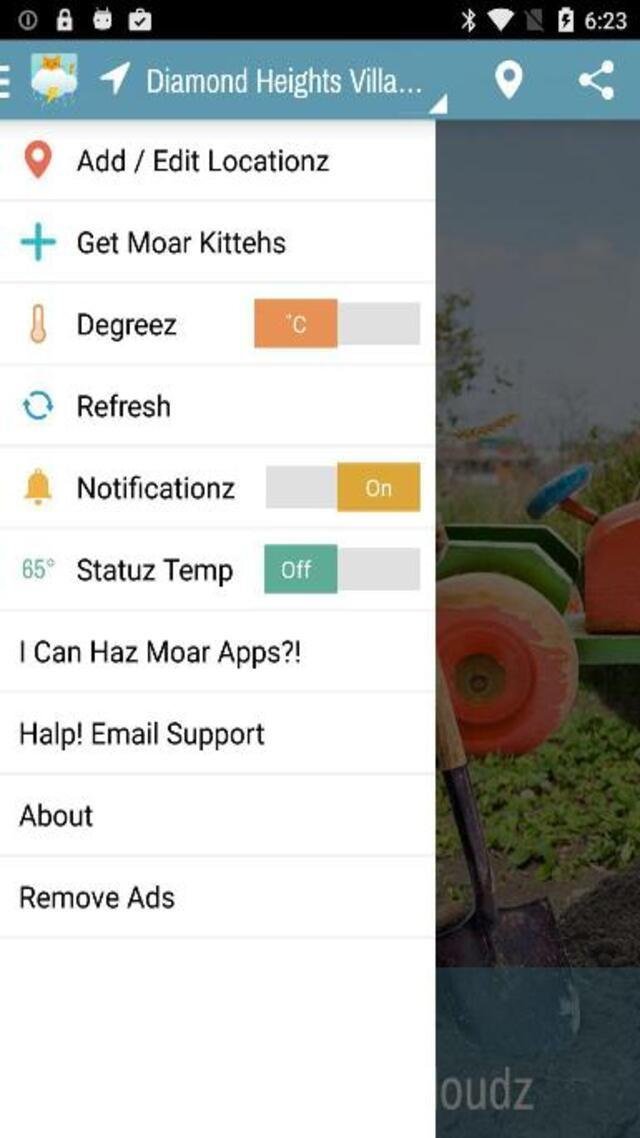CheckedTextView: (252, 294, 424, 351), (260, 540, 420, 597), (265, 461, 422, 515)
Icon: (578, 60, 616, 100), (19, 222, 56, 262), (23, 468, 53, 507), (24, 140, 52, 180), (494, 61, 522, 100), (98, 62, 130, 94), (22, 390, 54, 421)
Image: (29, 53, 76, 108), (29, 303, 47, 344)
Text: (146, 68, 422, 99), (19, 640, 300, 669), (21, 718, 265, 750), (76, 147, 330, 174), (77, 230, 285, 254), (76, 557, 232, 587), (78, 474, 234, 500), (21, 884, 176, 908), (79, 313, 177, 341), (78, 393, 171, 418), (19, 802, 94, 827), (22, 556, 54, 578)
